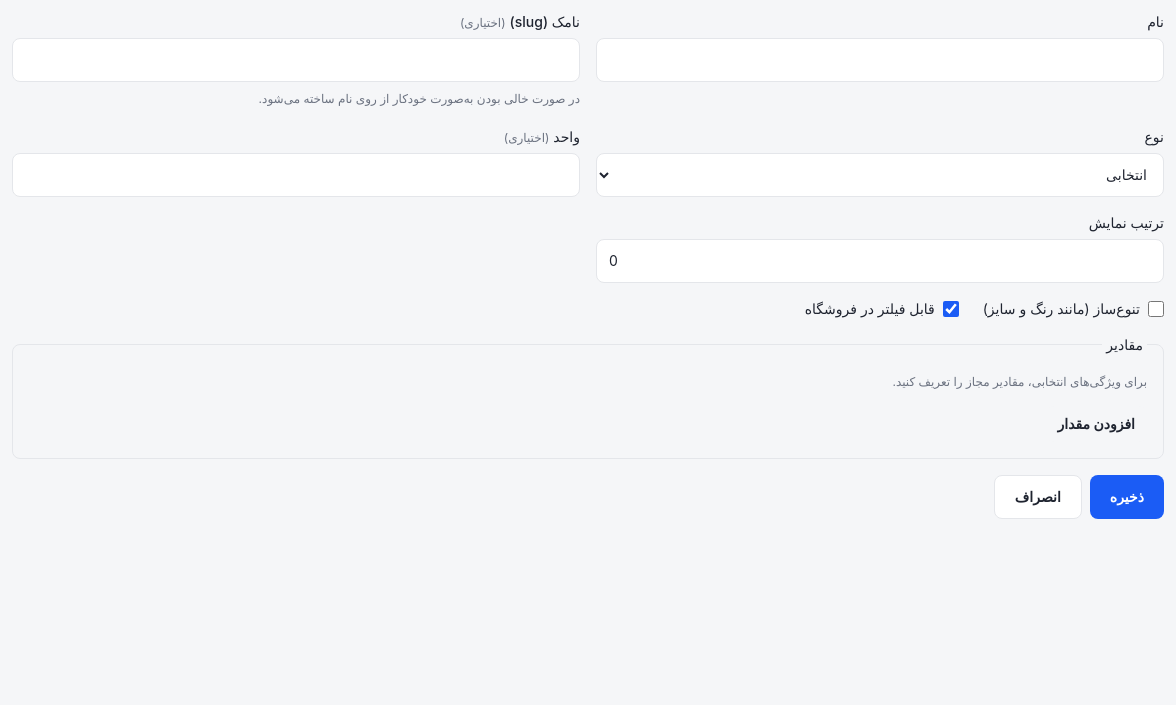
Test: AttributeForm with values editor › rejects duplicate values and invalid colours
The width and height of the screenshot is (1176, 705).
Type "رنگ" into the field labelled "نام" at (880, 60), box top-left (596, 38), bottom-right (1164, 82)
Click the button "افزودن مقدار" at (1096, 424), box top-left (1046, 406), bottom-right (1147, 442)
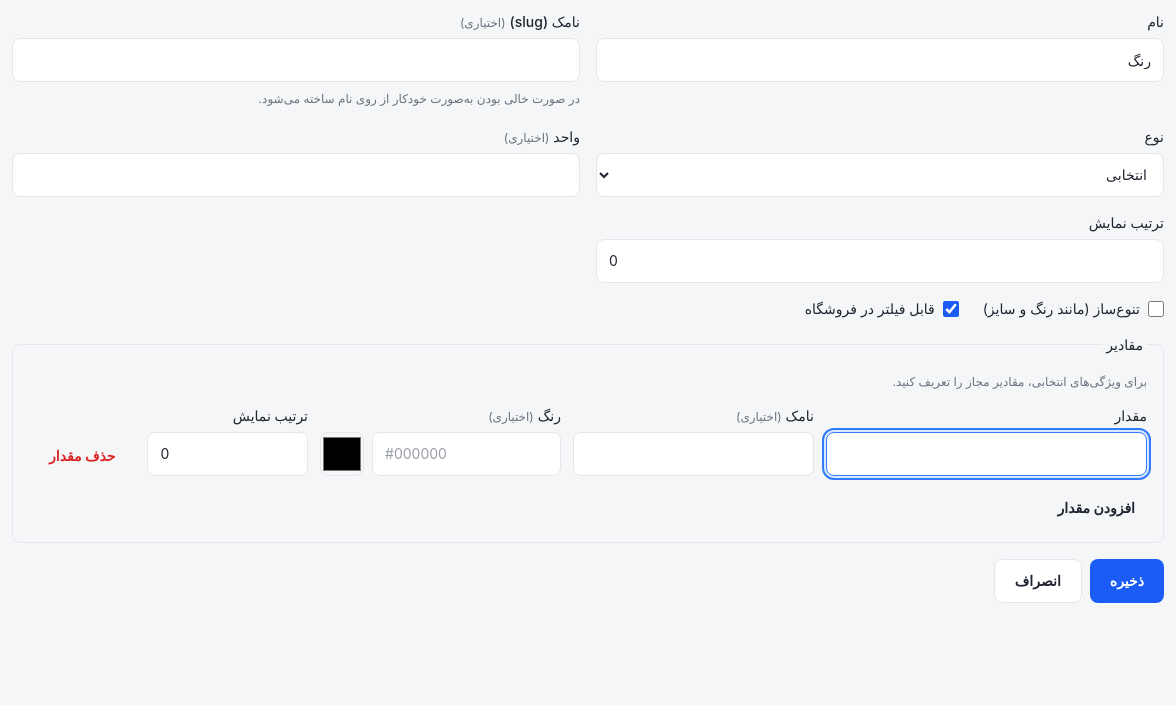
Click the button "افزودن مقدار" at (1096, 508), box top-left (1046, 490), bottom-right (1147, 526)
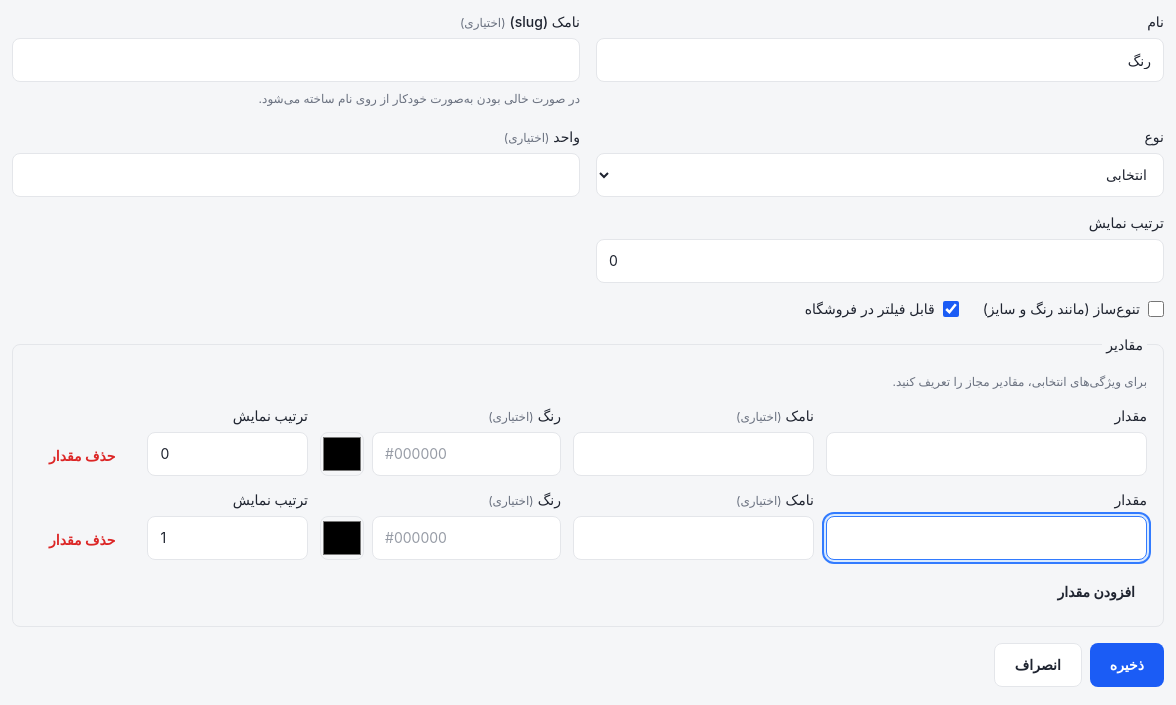
Check: the number of fields labelled "مقدار" is 2
Type "مشکی" into the 1st field labelled "مقدار" at (986, 454), box top-left (826, 432), bottom-right (1147, 476)
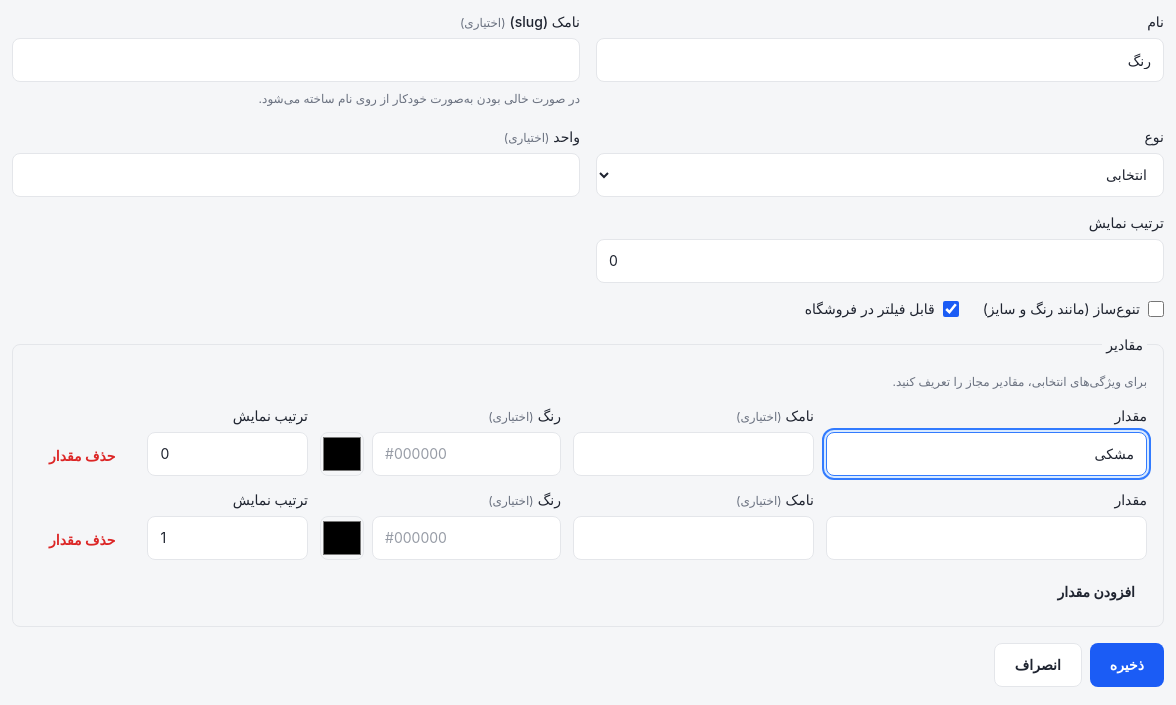
Type "مشکی" into the 2nd field labelled "مقدار" at (986, 538), box top-left (826, 516), bottom-right (1147, 560)
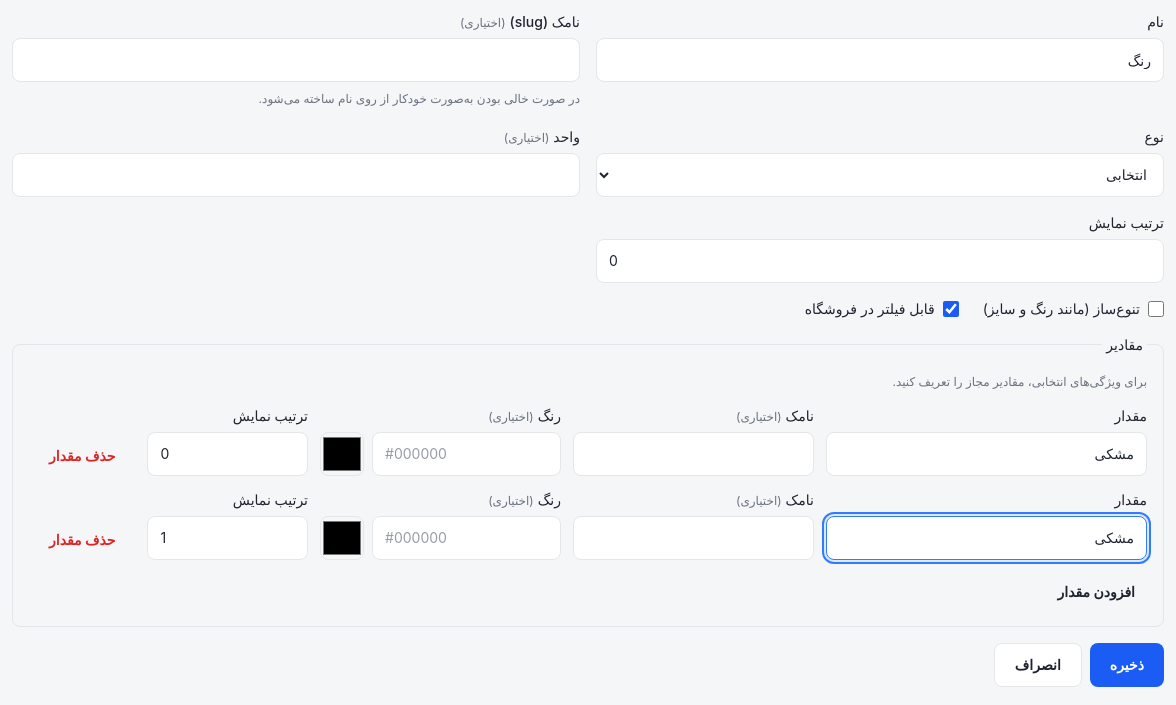
Type "not-a-colour" into the field named "values.0.colorHex" at (466, 454), box top-left (372, 432), bottom-right (561, 476)
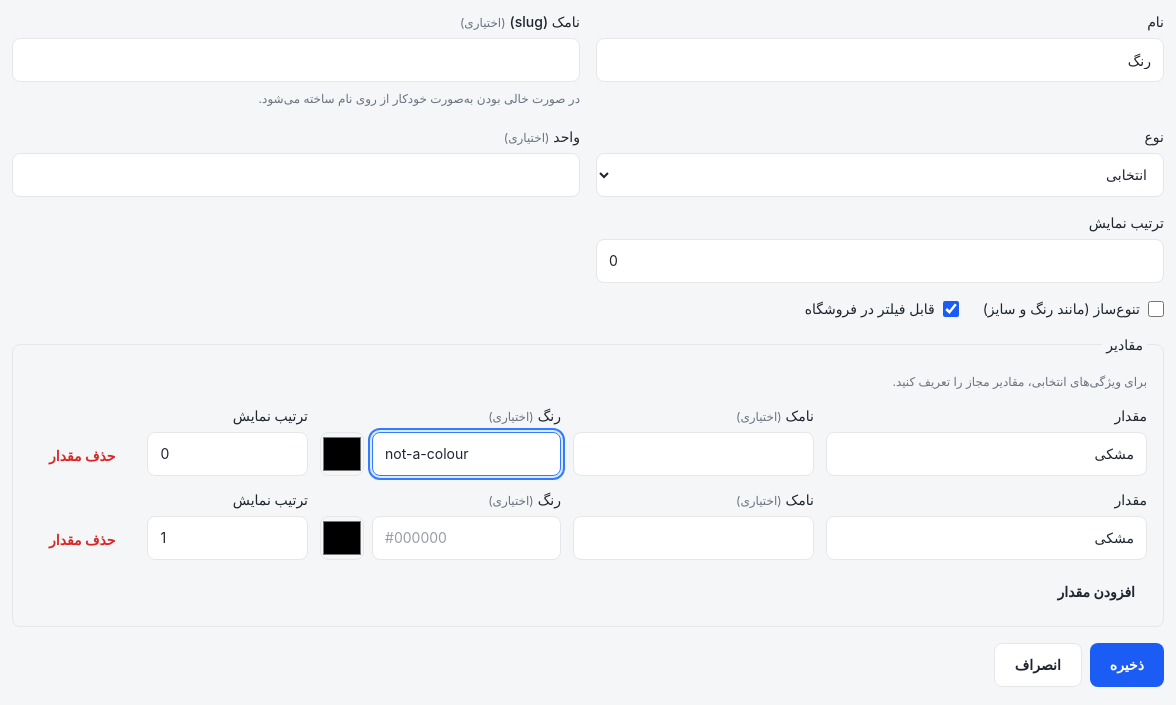
Click the button "ذخیره" at (1127, 665), box top-left (1090, 643), bottom-right (1164, 687)
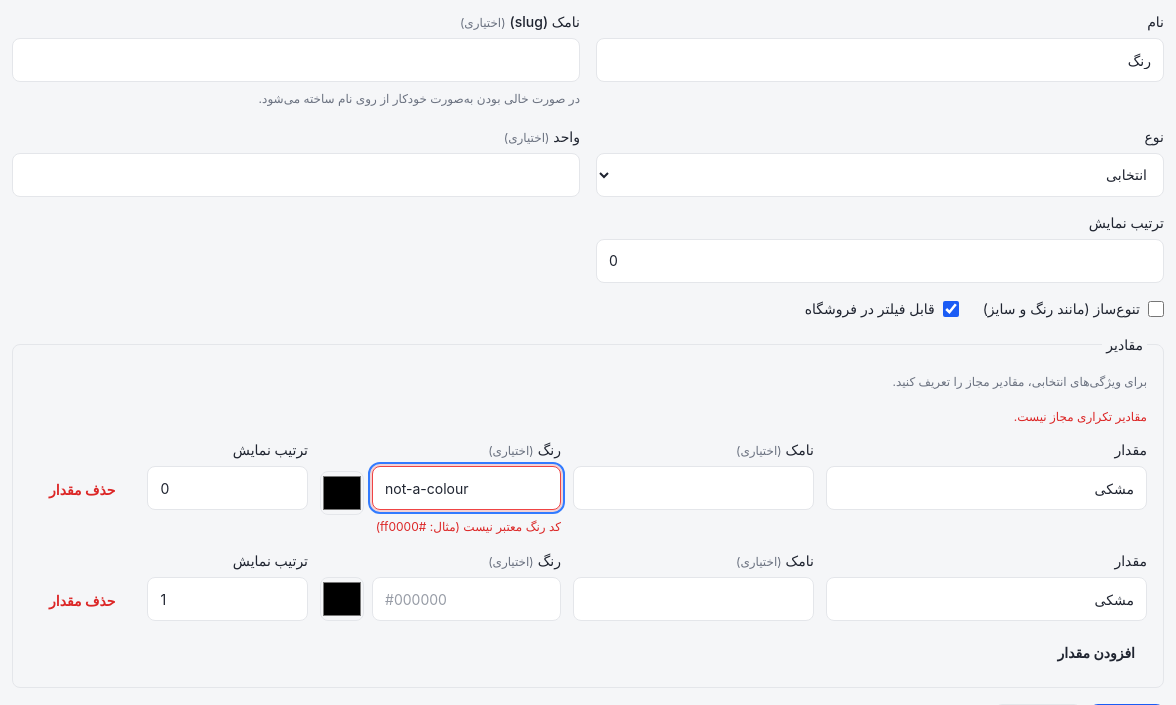
Check: the text "مقادیر تکراری مجاز نیست." is shown, box top-left (1014, 409), bottom-right (1147, 424)
Check: the text "کد رنگ معتبر نیست (مثال: #ff0000)" is shown, box top-left (372, 516), bottom-right (561, 539)
